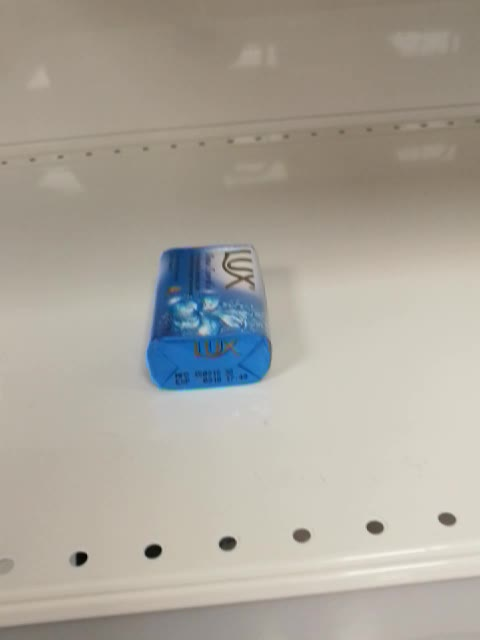soap: (145, 241, 274, 390)
